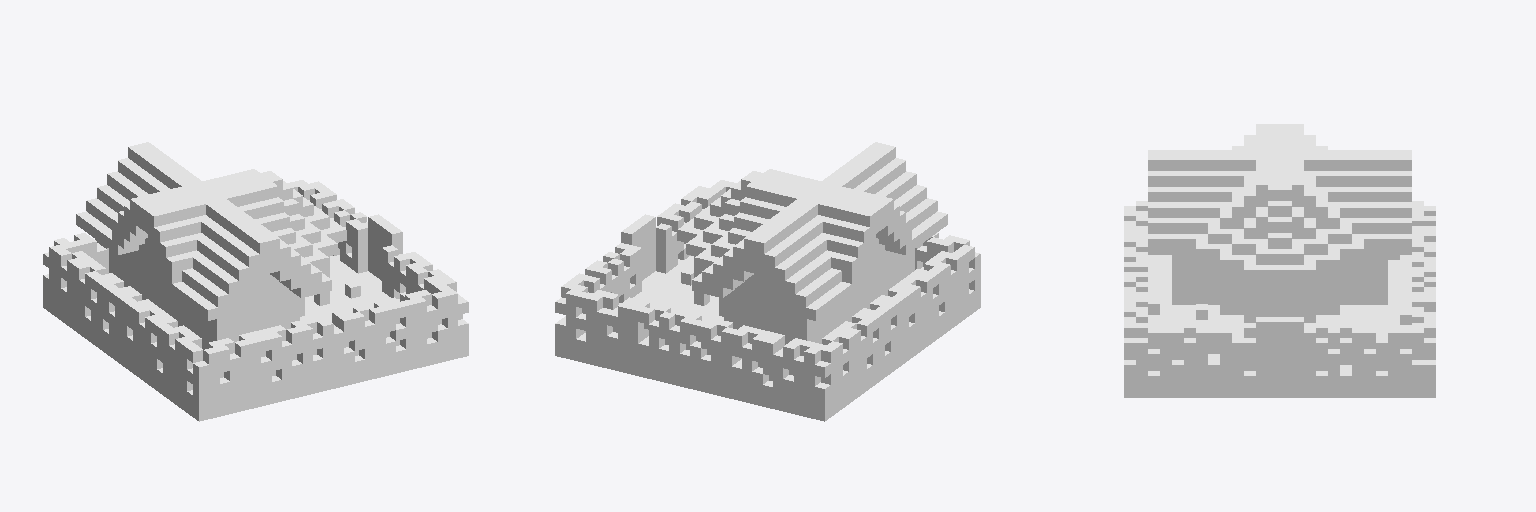
Rendered from house2.3.obj.
The picture shows the model from 3 angles: view 1: azimuth 30°, elevation 25°; view 2: azimuth 150°, elevation 25°; view 3: azimuth 270°, elevation 25°; orthographic projection.
Parts seen in each view (by area): view 1: object 1; view 2: object 1; view 3: object 1.
Boxes of the visible parts, x1=… form: object 1: x1=43, y1=142, x2=468, y2=421; object 1: x1=555, y1=142, x2=980, y2=421; object 1: x1=1124, y1=124, x2=1435, y2=397.
Size of the model in its own units: 2.6 by 1.4 by 2.6.